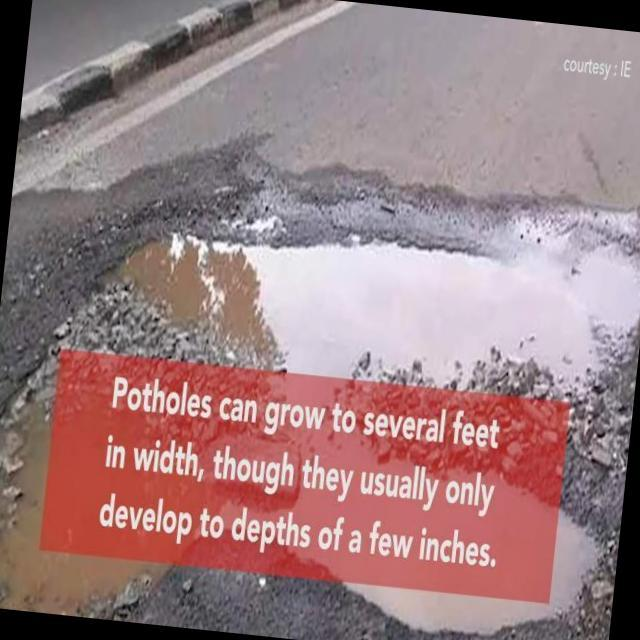Burst: (65, 231, 640, 379)
